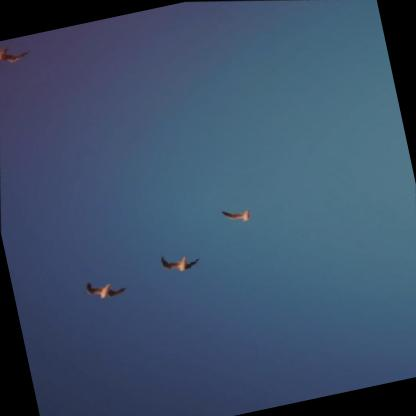bird: (78, 270, 133, 308), (154, 242, 205, 282), (0, 34, 39, 72), (217, 199, 257, 229)
